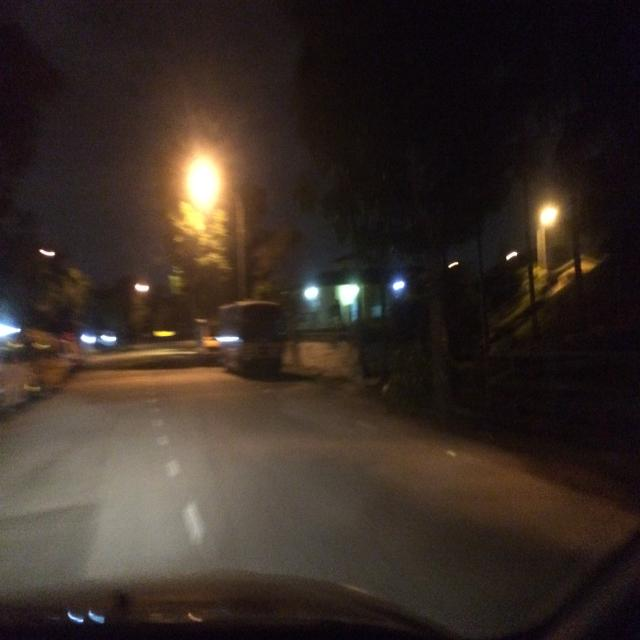Bus: (207, 293, 291, 399)
car: (4, 556, 640, 640), (4, 303, 68, 412)
